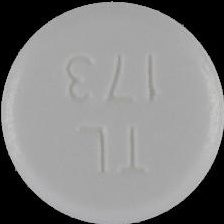61919-235: (0, 0, 224, 224)
